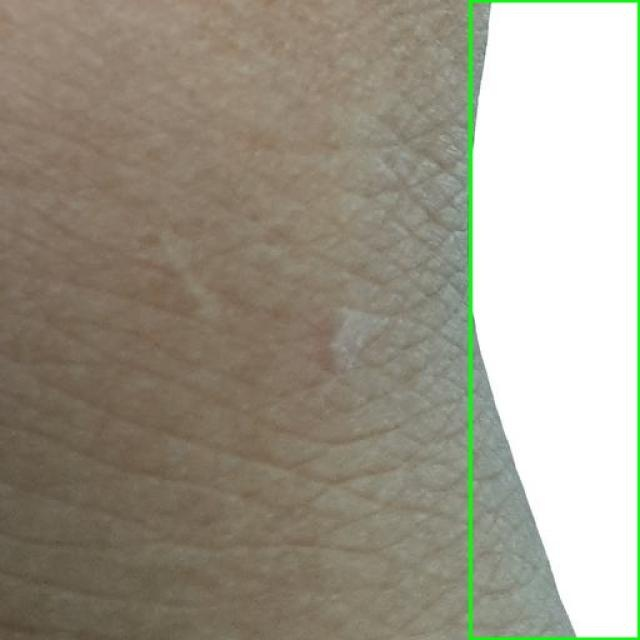Scabies: (470, 0, 639, 639)
